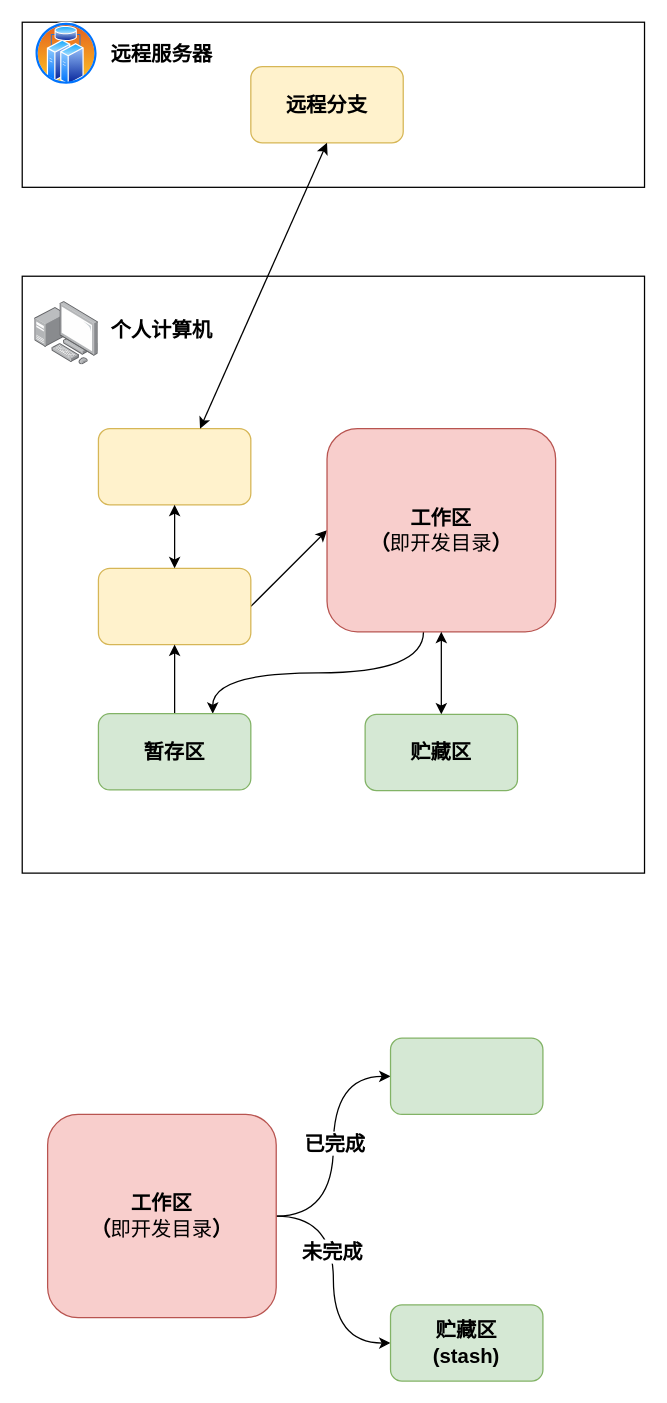
This 667x1403 diagram has some shape labels left out. The centre of each missing label's shape, as x and y in pixels:
"暂存区 （index）" goes at [466,1075].
"本地分支" goes at [174,606].
"远程跟踪分支" goes at [174,466].
